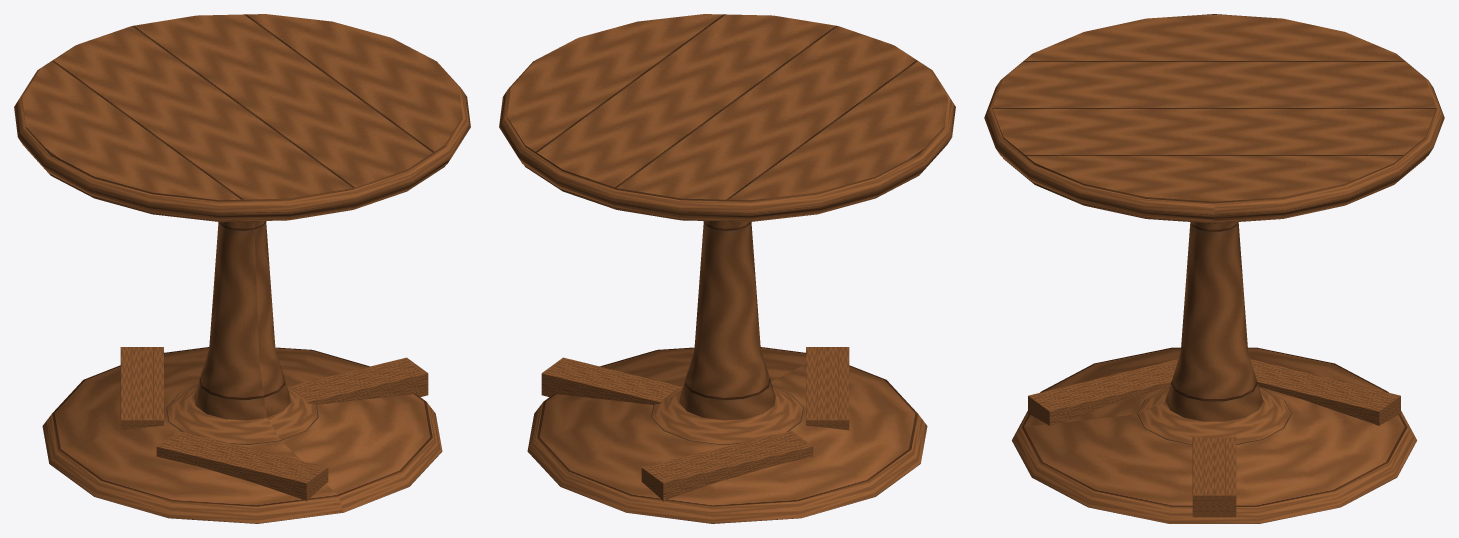
File: wild-west-frontier-town-saloon-round-table-531ef3de__30114.glb
3 views of the same model, side by side, from view 1: azimuth 30°, elevation 25°; view 2: azimuth 150°, elevation 25°; view 3: azimuth 270°, elevation 25° (orthographic).
Visible parts, largest first — view 1: saloon-round-table; view 2: saloon-round-table; view 3: saloon-round-table.
Boxes of the visible parts, left/top/right/bottom form: saloon-round-table: left=14, top=14, right=470, bottom=523; saloon-round-table: left=499, top=14, right=955, bottom=523; saloon-round-table: left=984, top=14, right=1444, bottom=523.
Bounding box in the file's own units: 0.954 × 0.76 × 0.954.
1 material, 1 textured.
